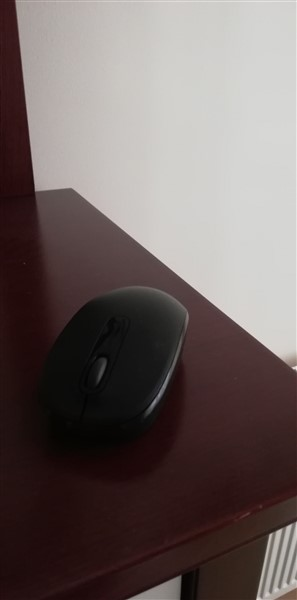mouse: (37, 280, 199, 456)
